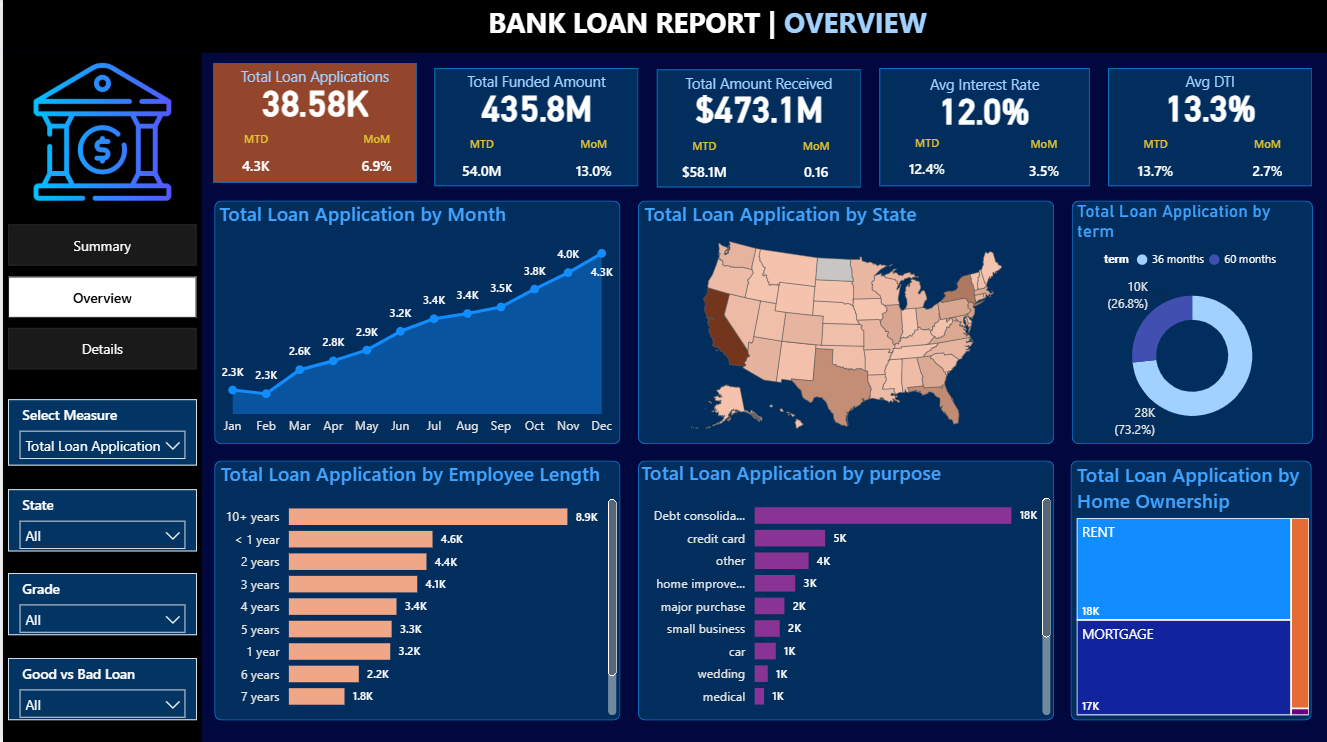

The dashboard page shown, as its layout file describes it:
{"tool":"powerbi","page":{"name":"Overview","canvas":[1280,720],"ordinal":1},"visuals":[{"type":"shape","box":[0,53.1,191.8,667.2],"z":0},{"type":"shape","box":[0,0,1280,53],"z":1000},{"type":"shape","box":[202.7,62.4,196.6,115.7],"z":1000,"group":"g1"},{"type":"shape","box":[416.1,67.3,197.2,114.2],"z":1000,"group":"g2"},{"type":"shape","box":[1066.5,67.3,197.2,114.2],"z":1000,"group":"g4"},{"type":"shape","box":[845.3,67.6,203.3,114.2],"z":1000,"group":"g5"},{"type":"shape","box":[630.7,68.5,197.2,114.2],"z":1000,"group":"g3"},{"type":"cardVisual","fields":{"Data":["Bank_loan_data.Total Loan Application"]},"box":[204.2,76,195.4,53.1],"z":2000,"group":"g1"},{"type":"cardVisual","fields":{"Data":["Bank_loan_data.Total Funded Amount"]},"box":[417.6,80.7,196,52.4],"z":2000,"group":"g2"},{"type":"cardVisual","fields":{"Data":["Bank_loan_data.Avg DTI"]},"box":[1068,80.7,196,52.4],"z":2000,"group":"g4"},{"type":"cardVisual","fields":{"Data":["Bank_loan_data.Total Amount Received"]},"box":[632.2,81.9,196,52.4],"z":2000,"group":"g3"},{"type":"cardVisual","fields":{"Data":["Bank_loan_data.Avg Interest Rate"]},"box":[845.3,84.5,202.1,52.4],"z":2000,"group":"g5"},{"type":"shape","box":[203.9,195.4,392.1,235.3],"z":2000},{"type":"textbox","box":[463.3,0,447.6,56.7],"z":3000},{"type":"group","id":"g1","title":"Group 1","box":[202.7,61.5,196.6,117],"z":4000},{"type":"textbox","box":[203,61.5,196.6,29],"z":5000,"group":"g1"},{"type":"group","id":"g2","title":"Group 1","box":[416.1,66.4,197.9,115.8],"z":5000},{"type":"textbox","box":[416.4,66.4,197.2,28.6],"z":5000,"group":"g2"},{"type":"textbox","box":[1066.8,66.4,197.2,28.6],"z":5000,"group":"g4"},{"type":"textbox","box":[631,67.6,197.2,28.6],"z":5000,"group":"g3"},{"type":"textbox","box":[845.3,68.8,203.4,28.6],"z":5000,"group":"g5"},{"type":"group","id":"g3","title":"Group 1","box":[630.7,67.6,197.9,115.8],"z":6000},{"type":"cardVisual","title":"MTD","fields":{"Data":["Bank_loan_data.MTD Loan Applications"]},"box":[204.2,129.1,80.8,49.5],"z":6000,"group":"g1"},{"type":"cardVisual","title":"MTD","fields":{"Data":["Bank_loan_data.MTD Avg Interest Rate"]},"box":[845.3,132.7,92.3,48.8],"z":6000,"group":"g5"},{"type":"cardVisual","title":"MTD","fields":{"Data":["Bank_loan_data.MTD Funded Amount"]},"box":[416.8,133.4,89.5,48.8],"z":6000,"group":"g2"},{"type":"cardVisual","title":"MTD","fields":{"Data":["Bank_loan_data.MTD Avg DTI"]},"box":[1067.2,133.4,89.5,48.8],"z":6000,"group":"g4"},{"type":"cardVisual","title":"MTD","fields":{"Data":["Bank_loan_data.MTD Total Amount Received"]},"box":[631.4,134.6,89.5,48.8],"z":6000,"group":"g3"},{"type":"group","id":"g4","title":"Group 1","box":[1066.5,66.4,197.9,115.8],"z":7000},{"type":"cardVisual","title":"MoM","fields":{"Data":["Bank_loan_data.MoM Loan Applications"]},"box":[322.4,129.1,77.2,49.5],"z":7000,"group":"g1"},{"type":"cardVisual","title":"MoM","fields":{"Data":["Bank_loan_data.MoM Total Funded Amount"]},"box":[525.6,133.4,88.3,48.8],"z":7000,"group":"g2"},{"type":"cardVisual","title":"MoM","fields":{"Data":["Bank_loan_data.MoM Avg DTI"]},"box":[1176,133.4,88.3,48.8],"z":7000,"group":"g4"},{"type":"cardVisual","title":"MoM","fields":{"Data":["Bank_loan_data.MoM Avg Interest Rate"]},"box":[958.7,134,91.1,48.8],"z":7000,"group":"g5"},{"type":"cardVisual","title":"MoM","fields":{"Data":["Bank_loan_data.MoM Total Amount Recievedt"]},"box":[740.2,134.6,88.3,48.8],"z":7000,"group":"g3"},{"type":"slicer","fields":{"Values":["Bank_loan_data.address_state"]},"box":[4.8,474.1,182.2,60.3],"z":8000},{"type":"slicer","fields":{"Values":["Bank_loan_data.grade"]},"box":[4.8,555,182.2,60.3],"z":9000},{"type":"slicer","fields":{"Values":["Bank_loan_data.Good vs Bad Loan"]},"box":[4.8,637,182.2,60.3],"z":10000},{"type":"areaChart","fields":{"Y":["Bank_loan_data.Total Loan Application"],"Category":["Date Table.Month"]},"box":[203.9,195.4,392.1,235.3],"z":11000},{"type":"slicer","fields":{"Values":["Select Measure.Select Measure"]},"box":[4.8,387.3,182.2,63.9],"z":12000},{"type":"group","id":"g5","title":"Group 2","box":[845.3,67.6,204.5,115.2],"z":13000},{"type":"shape","box":[612.9,195.4,401.7,235.3],"z":14000},{"type":"shapeMap","fields":{"Value":["Bank_loan_data.Total Loan Application"],"Category":["Bank_loan_data.address_state"]},"box":[614.1,195.4,400.5,235.3],"z":15000},{"type":"shape","box":[1031.5,195.4,232.8,235.3],"z":16000},{"type":"donutChart","fields":{"Y":["Bank_loan_data.Total Loan Application"],"Category":["Bank_loan_data.term"]},"box":[1031.5,195.4,232.8,234],"z":17000},{"type":"shape","box":[203.9,446.4,392.1,250.9],"z":18000},{"type":"barChart","fields":{"Y":["Bank_loan_data.Total Loan Application"],"Category":["Bank_loan_data.emp_length"]},"box":[205.1,446.4,392.1,250.9],"z":19000},{"type":"shape","box":[612.9,446.4,401.7,250.9],"z":20000},{"type":"barChart","fields":{"Y":["Bank_loan_data.Total Loan Application"],"Category":["Bank_loan_data.purpose"]},"box":[614.1,445.2,401.7,252.1],"z":21000},{"type":"shape","box":[1030.3,446.4,232.8,250.9],"z":22000},{"type":"treemap","fields":{"Values":["Bank_loan_data.Total Loan Application"],"Group":["Bank_loan_data.home_ownership"]},"box":[1031.5,447.6,234,249.7],"z":23000},{"type":"image","box":[0,53.1,191.8,152],"z":24000},{"type":"pageNavigator","box":[4.8,218.4,182.2,141.2],"z":25000}]}

Visuals, with their boxes in screenshot pixels (x1, y1, x2, y2), scaled from the page's 1280x720 canvas onto the 1327x742 screenshot:
shape: {"x1": 0, "y1": 55, "x2": 199, "y2": 741}
shape: {"x1": 0, "y1": 0, "x2": 1326, "y2": 55}
shape: {"x1": 210, "y1": 64, "x2": 414, "y2": 184}
shape: {"x1": 431, "y1": 69, "x2": 636, "y2": 187}
shape: {"x1": 1106, "y1": 69, "x2": 1310, "y2": 187}
shape: {"x1": 876, "y1": 70, "x2": 1087, "y2": 187}
shape: {"x1": 654, "y1": 71, "x2": 858, "y2": 188}
cardVisual - Bank_loan_data.Total Loan Application: {"x1": 212, "y1": 78, "x2": 414, "y2": 133}
cardVisual - Bank_loan_data.Total Funded Amount: {"x1": 433, "y1": 83, "x2": 636, "y2": 137}
cardVisual - Bank_loan_data.Avg DTI: {"x1": 1107, "y1": 83, "x2": 1310, "y2": 137}
cardVisual - Bank_loan_data.Total Amount Received: {"x1": 655, "y1": 84, "x2": 859, "y2": 138}
cardVisual - Bank_loan_data.Avg Interest Rate: {"x1": 876, "y1": 87, "x2": 1086, "y2": 141}
shape: {"x1": 211, "y1": 201, "x2": 618, "y2": 444}
textbox: {"x1": 480, "y1": 0, "x2": 944, "y2": 58}
"Group 1" group: {"x1": 210, "y1": 63, "x2": 414, "y2": 184}
textbox: {"x1": 210, "y1": 63, "x2": 414, "y2": 93}
"Group 1" group: {"x1": 431, "y1": 68, "x2": 637, "y2": 188}
textbox: {"x1": 432, "y1": 68, "x2": 636, "y2": 98}
textbox: {"x1": 1106, "y1": 68, "x2": 1310, "y2": 98}
textbox: {"x1": 654, "y1": 70, "x2": 859, "y2": 99}
textbox: {"x1": 876, "y1": 71, "x2": 1087, "y2": 100}
"Group 1" group: {"x1": 654, "y1": 70, "x2": 859, "y2": 189}
"MTD" cardVisual: {"x1": 212, "y1": 133, "x2": 295, "y2": 184}
"MTD" cardVisual: {"x1": 876, "y1": 137, "x2": 972, "y2": 187}
"MTD" cardVisual: {"x1": 432, "y1": 137, "x2": 525, "y2": 188}
"MTD" cardVisual: {"x1": 1106, "y1": 137, "x2": 1199, "y2": 188}
"MTD" cardVisual: {"x1": 655, "y1": 139, "x2": 747, "y2": 189}
"Group 1" group: {"x1": 1106, "y1": 68, "x2": 1311, "y2": 188}
"MoM" cardVisual: {"x1": 334, "y1": 133, "x2": 414, "y2": 184}
"MoM" cardVisual: {"x1": 545, "y1": 137, "x2": 636, "y2": 188}
"MoM" cardVisual: {"x1": 1219, "y1": 137, "x2": 1311, "y2": 188}
"MoM" cardVisual: {"x1": 994, "y1": 138, "x2": 1088, "y2": 188}
"MoM" cardVisual: {"x1": 767, "y1": 139, "x2": 859, "y2": 189}
slicer - Bank_loan_data.address_state: {"x1": 5, "y1": 489, "x2": 194, "y2": 551}
slicer - Bank_loan_data.grade: {"x1": 5, "y1": 572, "x2": 194, "y2": 634}
slicer - Bank_loan_data.Good vs Bad Loan: {"x1": 5, "y1": 656, "x2": 194, "y2": 719}
areaChart - Bank_loan_data.Total Loan Application x Date Table.Month: {"x1": 211, "y1": 201, "x2": 618, "y2": 444}
slicer - Select Measure.Select Measure: {"x1": 5, "y1": 399, "x2": 194, "y2": 465}
"Group 2" group: {"x1": 876, "y1": 70, "x2": 1088, "y2": 188}
shape: {"x1": 635, "y1": 201, "x2": 1052, "y2": 444}
shapeMap - Bank_loan_data.Total Loan Application x Bank_loan_data.address_state: {"x1": 637, "y1": 201, "x2": 1052, "y2": 444}
shape: {"x1": 1069, "y1": 201, "x2": 1311, "y2": 444}
donutChart - Bank_loan_data.Total Loan Application x Bank_loan_data.term: {"x1": 1069, "y1": 201, "x2": 1311, "y2": 443}
shape: {"x1": 211, "y1": 460, "x2": 618, "y2": 719}
barChart - Bank_loan_data.Total Loan Application x Bank_loan_data.emp_length: {"x1": 213, "y1": 460, "x2": 619, "y2": 719}
shape: {"x1": 635, "y1": 460, "x2": 1052, "y2": 719}
barChart - Bank_loan_data.Total Loan Application x Bank_loan_data.purpose: {"x1": 637, "y1": 459, "x2": 1053, "y2": 719}
shape: {"x1": 1068, "y1": 460, "x2": 1309, "y2": 719}
treemap - Bank_loan_data.Total Loan Application x Bank_loan_data.home_ownership: {"x1": 1069, "y1": 461, "x2": 1312, "y2": 719}
image: {"x1": 0, "y1": 55, "x2": 199, "y2": 211}
pageNavigator: {"x1": 5, "y1": 225, "x2": 194, "y2": 371}
